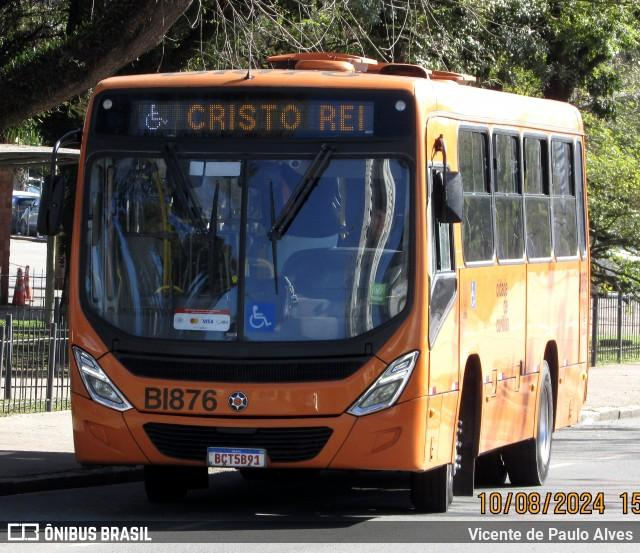CRISTO REI: (181, 99, 368, 137)
